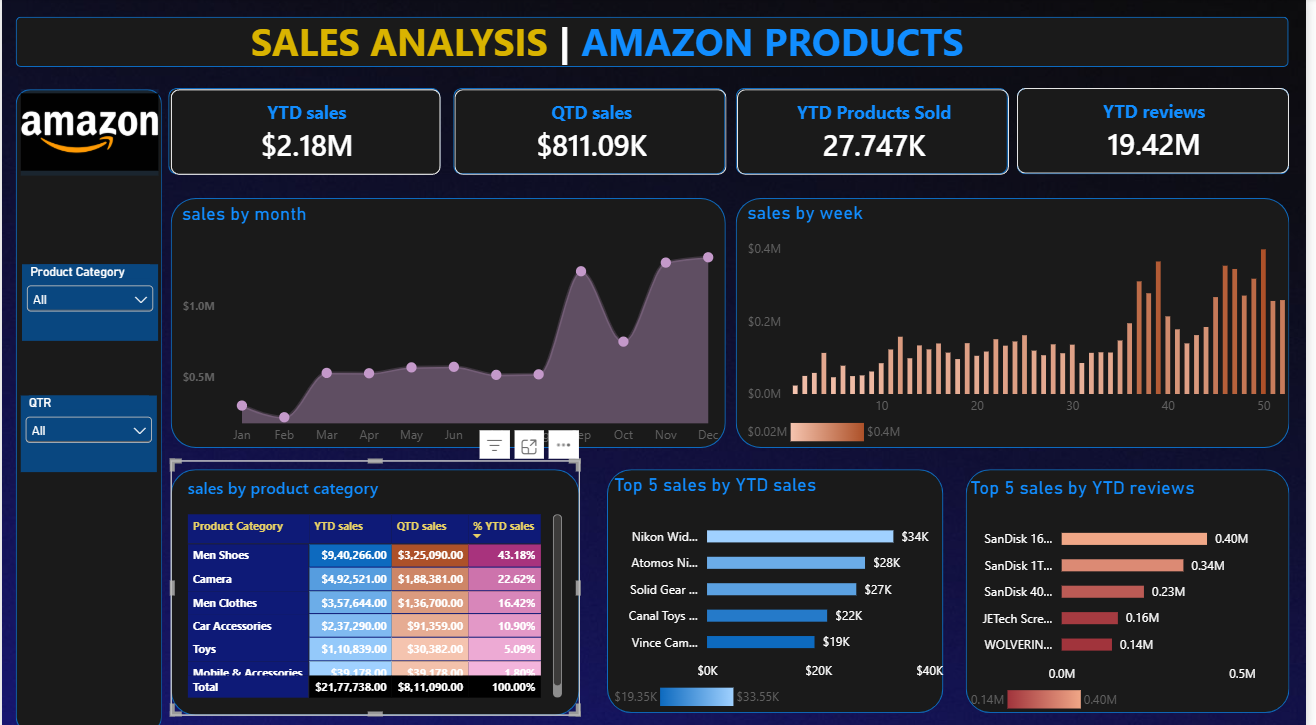

What the dashboard file says about the page in this screenshot:
{"tool":"powerbi","page":{"name":"Page 1","canvas":[1280,720],"ordinal":0},"visuals":[{"type":"shape","box":[163.2,87.9,267.1,84.7],"z":0},{"type":"shape","box":[443.2,88.2,267.1,84.7],"z":1000},{"type":"shape","box":[13.3,18.7,1249.3,49.3],"z":2000},{"type":"cardVisual","fields":{"Data":["Amazon_Data.QTD sales"]},"box":[444.1,90,267.1,84.7],"z":2000,"group":"g1"},{"type":"textbox","box":[230.7,17.3,726.7,50.7],"z":3000},{"type":"cardVisual","fields":{"Data":["Amazon_Data.YTD sales"]},"box":[165.6,89.7,265,84.7],"z":3000,"group":"g1"},{"type":"shape","box":[720.1,88.2,267.1,84.7],"z":4000},{"type":"shape","box":[13.5,89.6,143.6,630.7],"z":4000},{"type":"shape","box":[165.6,196.3,544.8,245.4],"z":4001},{"type":"shape","box":[996.9,88.2,267.1,84.7],"z":5000},{"type":"cardVisual","fields":{"Data":["Amazon_Data.YTD Products Sold"]},"box":[721.8,90,267.1,84.7],"z":6000,"group":"g1"},{"type":"cardVisual","fields":{"Data":["Amazon_Data.YTD reviews"]},"box":[996.6,88.3,267.1,84.7],"z":7000,"group":"g1"},{"type":"group","id":"g1","title":"Group 1","box":[165.6,88.3,1098.2,85.9],"z":7001},{"type":"areaChart","title":"sales by month","fields":{"Category":["date.month"],"Y":["Sum(Amazon_Data.Price(Dollar))"]},"box":[165.6,196.3,546,245.4],"z":7002},{"type":"shape","box":[720.2,196.3,543.6,245.4],"z":7003},{"type":"columnChart","title":"sales by week","fields":{"Category":["date.week"],"Y":["Sum(Amazon_Data.Price(Dollar))"]},"box":[723.9,196.3,544.8,245.4],"z":7004},{"type":"shape","box":[165.6,450.3,401.2,269.9],"z":7005},{"type":"pivotTable","title":"sales by product category","fields":{"Rows":["Amazon_Data.Product Category"],"Values":["Amazon_Data.YTD sales1","Amazon_Data.QTD sales","Amazon_Data.YTD sales"]},"box":[163.2,450.3,401.2,269.9],"z":7006},{"type":"shape","box":[593.9,462.6,330.1,239.3],"z":7007},{"type":"shape","box":[946,462.6,317.8,239.3],"z":7008},{"type":"clusteredBarChart","title":"Top 5 sales by YTD sales","fields":{"Category":["Amazon_Data.Product Description"],"Y":["Amazon_Data.YTD sales"]},"box":[598.8,462.6,321.5,239.3],"z":7009},{"type":"clusteredBarChart","title":"Top 5 sales by YTD reviews","fields":{"Category":["Amazon_Data.Product Description"],"Y":["Amazon_Data.YTD reviews"]},"box":[944.8,465,321.5,239.3],"z":7010},{"type":"slicer","fields":{"Values":["Amazon_Data.Product Category"]},"box":[19.6,261.4,133.7,74.8],"z":7011},{"type":"slicer","fields":{"Values":["date.QTR"]},"box":[18.4,390.2,133.7,74.8],"z":7012},{"type":"image","box":[18.4,89.6,135,84.7],"z":7013}]}

Visuals, with their boxes in screenshot pixels (x1, y1, x2, y2), scaled from the page's 1280x720 canvas onto the 1316x725 screenshot:
shape: <box>168,89,442,174</box>
shape: <box>456,89,730,174</box>
shape: <box>14,19,1298,68</box>
cardVisual - Amazon_Data.QTD sales: <box>457,91,731,176</box>
textbox: <box>237,17,984,68</box>
cardVisual - Amazon_Data.YTD sales: <box>170,90,443,176</box>
shape: <box>740,89,1015,174</box>
shape: <box>14,90,162,724</box>
shape: <box>170,198,730,445</box>
shape: <box>1025,89,1300,174</box>
cardVisual - Amazon_Data.YTD Products Sold: <box>742,91,1017,176</box>
cardVisual - Amazon_Data.YTD reviews: <box>1025,89,1299,174</box>
"Group 1" group: <box>170,89,1299,175</box>
"sales by month" areaChart: <box>170,198,732,445</box>
shape: <box>740,198,1299,445</box>
"sales by week" columnChart: <box>744,198,1304,445</box>
shape: <box>170,453,583,724</box>
"sales by product category" pivotTable: <box>168,453,580,724</box>
shape: <box>611,466,950,707</box>
shape: <box>973,466,1299,707</box>
"Top 5 sales by YTD sales" clusteredBarChart: <box>616,466,946,707</box>
"Top 5 sales by YTD reviews" clusteredBarChart: <box>971,468,1302,709</box>
slicer - Amazon_Data.Product Category: <box>20,263,158,339</box>
slicer - date.QTR: <box>19,393,156,468</box>
image: <box>19,90,158,176</box>
